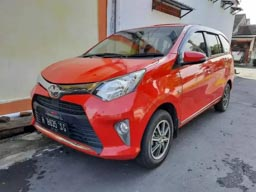plat: (41, 116, 67, 136)
